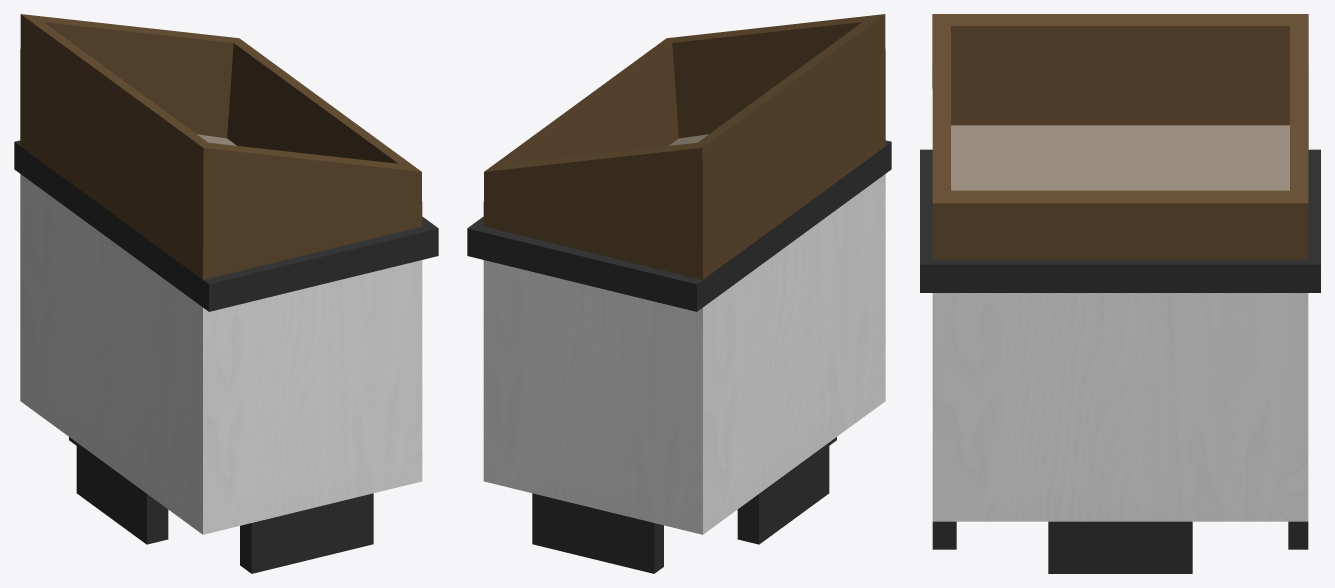
Rendered from Cajon-Frutas.FBX.
3 renders of one model, left to right at view 1: azimuth 30°, elevation 25°; view 2: azimuth 150°, elevation 25°; view 3: azimuth 270°, elevation 25°, orthographic. The views are drawn at different scales.
Visible parts, largest first — view 1: Caja frutas; view 2: Caja frutas; view 3: Caja frutas.
Part boxes in pixels (x1,y1,x2,y2): Caja frutas: [14, 14, 438, 573]; Caja frutas: [467, 14, 891, 573]; Caja frutas: [920, 14, 1320, 573].
Bounding box in the file's own units: 94.3 × 139 × 172.
